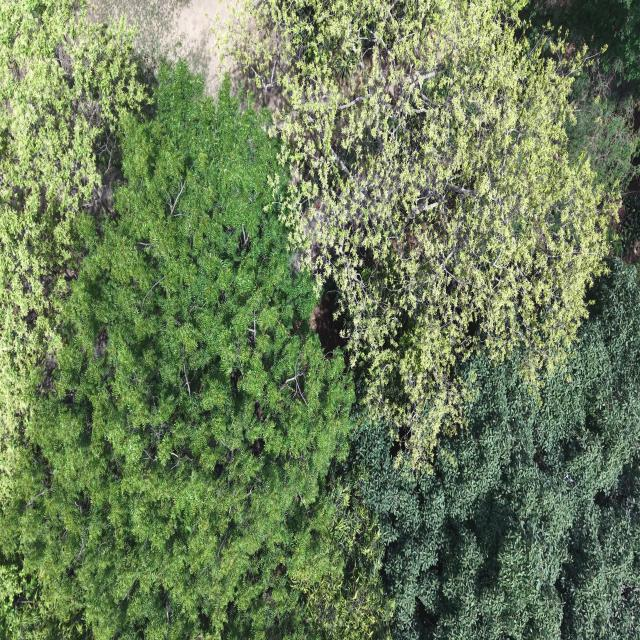DRY_AREA: (89, 0, 239, 95)
VEGETATION_TREE: (0, 0, 639, 639), (0, 63, 382, 638), (236, 0, 618, 468), (355, 260, 639, 639), (0, 0, 145, 538), (0, 0, 145, 500), (521, 0, 639, 261), (567, 53, 639, 203), (524, 0, 639, 81), (614, 191, 639, 262)
